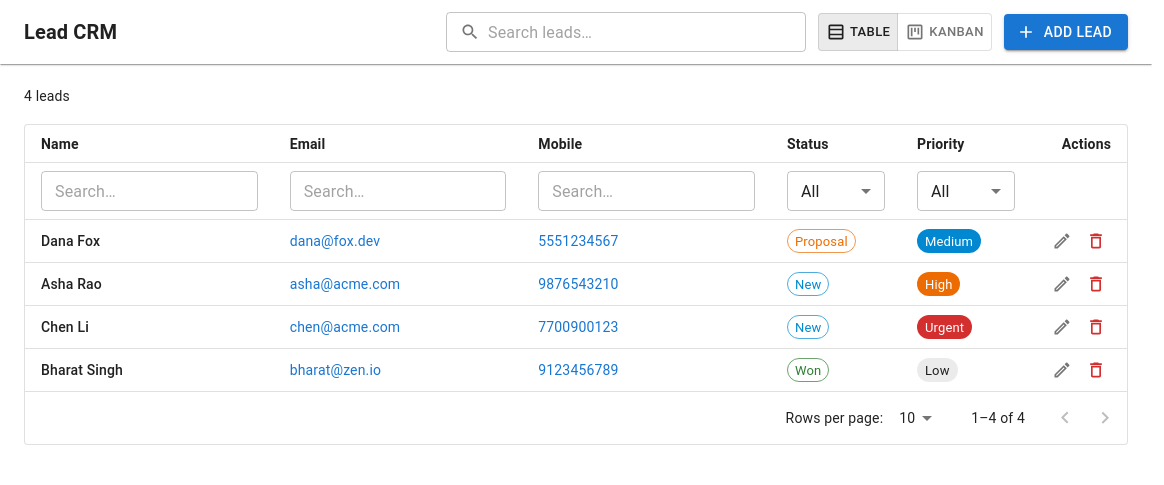
Test: App › lazy-loads the kanban view and remembers it across reloads
The image size is (1164, 485).
Click the button with aria-label "Kanban view".
click(944, 32)  # box x1=897 y1=13 x2=992 y2=51
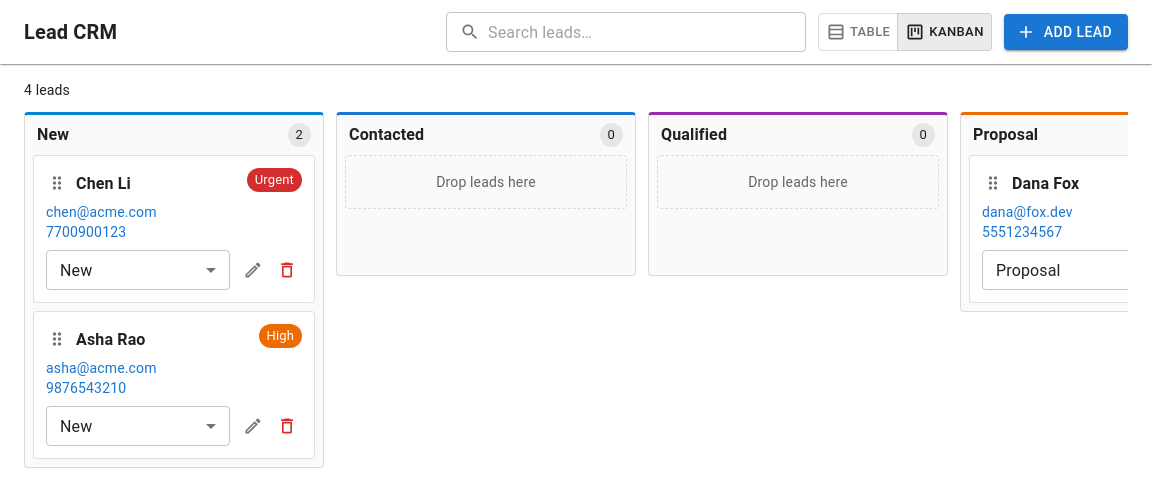
Now the element named "New column" is shown, box x1=24 y1=112 x2=324 y2=468
